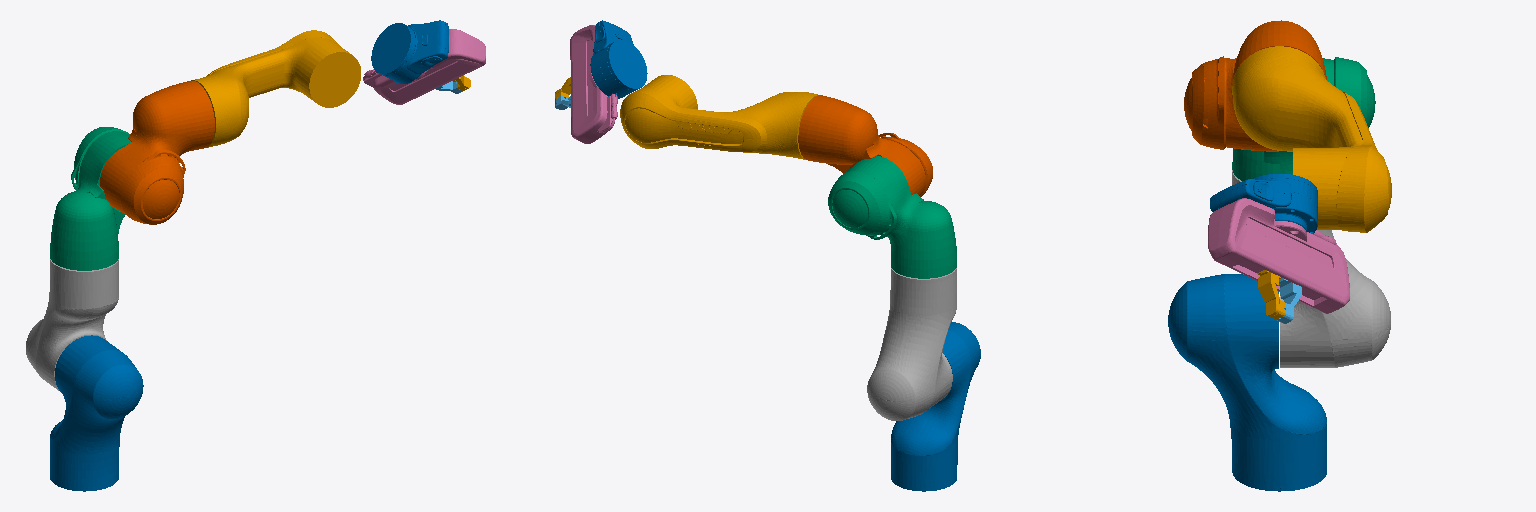
The robot description file, URDF, robot "fr3":
<?xml version="1.0" ?>
<!-- =================================================================================== -->
<!-- |    This document was autogenerated by xacro from C:\Users\hope\Desktop\crisp\.tmp_franka_description\franka_description\robots/fr3/fr3.urdf.xacro | -->
<!-- |    EDITING THIS FILE BY HAND IS NOT RECOMMENDED                                 | -->
<!-- =================================================================================== -->
<robot name="fr3">
  <!-- safety_distance: Minimum safety distance in [m] by which the collision volumes are expanded and which is enforced during robot motions -->
  <!-- robot_type: the franka robot arm type -->
  <!-- joint_limits: description of the joint limits that comes from a YAML file. Example definition: ${xacro.load_yaml('$(find franka_description)/robots/fr3/joint_limits.yaml')} -->
  <!-- kinematics: description of the kinematics that comes from a YAML file. Example definition: ${xacro.load_yaml('$(find franka_description)/robots/fr3/kinematics.yaml')} -->
  <!-- inertials: description of the inertials that comes from a YAML file. Example definition: ${xacro.load_yaml('$(find franka_description)/robots/fr3/inertials.yaml')} -->
  <!-- dynamics: description of the dynamics that comes from a YAML file. Example definition: ${xacro.load_yaml('$(find franka_description)/robots/fr3/dynamics.yaml')} -->
  <link name="base">
      </link>
  <joint name="fr3_base_joint" type="fixed">
    <parent link="base"/>
    <child link="fr3_link0"/>
    <origin rpy="0 0 0" xyz="0 0 0"/>
  </joint>
  <!-- sub-link defining detailed meshes for collision with environment -->
  <link name="fr3_link0">
    <visual name="fr3_link0_visual">
      <geometry>
        <mesh filename="package://franka_description/meshes/robots/fr3/visual/link0.obj"/>
      </geometry>
    </visual>
    <collision name="fr3_link0_collision">
      <geometry>
        <mesh filename="package://franka_description/meshes/robots/fr3/collision/link0.stl"/>
      </geometry>
    </collision>
    <inertial>
      <origin rpy="0 0 0" xyz="-0.0172 0.0004 0.0745"/>
      <mass value="2.3966"/>
      <inertia ixx="0.009" ixy="0.0" ixz="0.002" iyy="0.0115" iyz="0.0" izz="0.0085"/>
    </inertial>
  </link>
  <link name="fr3_link0_accelerometer_top">
      </link>
  <joint name="fr3_link0_accelerometer_top_joint" type="fixed">
    <origin rpy="3.1416 0.0 0.0" xyz="-0.017402 -0.007872 0.04715"/>
    <parent link="fr3_link0"/>
    <child link="fr3_link0_accelerometer_top"/>
  </joint>
  <link name="fr3_link0_accelerometer_bottom">
      </link>
  <joint name="fr3_link0_accelerometer_bottom_joint" type="fixed">
    <origin rpy="0.0 0.0 -1.5708" xyz="-0.019739 0.0015506 0.05075"/>
    <parent link="fr3_link0"/>
    <child link="fr3_link0_accelerometer_bottom"/>
  </joint>
  <!-- sub-link defining detailed meshes for collision with environment -->
  <link name="fr3_link1">
    <visual name="fr3_link1_visual">
      <geometry>
        <mesh filename="package://franka_description/meshes/robots/fr3/visual/link1.obj"/>
      </geometry>
    </visual>
    <collision name="fr3_link1_collision">
      <geometry>
        <mesh filename="package://franka_description/meshes/robots/fr3/collision/link1.stl"/>
      </geometry>
    </collision>
    <inertial>
      <origin rpy="0 0 0" xyz="0.0000004128 -0.0181251324 -0.0386035970"/>
      <mass value="2.9274653454"/>
      <inertia ixx="0.023927316485107913" ixy="1.3317903455714081e-05" ixz="-0.00011404774918616684" iyy="0.0224821613275756" iyz="-0.0019950320628240115" izz="0.006350098258530016"/>
    </inertial>
  </link>
  <link name="fr3_link1_accelerometer_top">
      </link>
  <joint name="fr3_link1_accelerometer_top_joint" type="fixed">
    <origin rpy="-1.5708 0.0 3.1416" xyz="0.017402 -0.093352 -0.00787"/>
    <parent link="fr3_link1"/>
    <child link="fr3_link1_accelerometer_top"/>
  </joint>
  <link name="fr3_link1_accelerometer_bottom">
      </link>
  <joint name="fr3_link1_accelerometer_bottom_joint" type="fixed">
    <origin rpy="-1.5708 1.5708 0.0" xyz="0.01974 -0.08975 0.00155"/>
    <parent link="fr3_link1"/>
    <child link="fr3_link1_accelerometer_bottom"/>
  </joint>
  <joint name="fr3_joint1" type="revolute">
    <origin rpy="0 0 0" xyz="0 0 0.333"/>
    <parent link="fr3_link0"/>
    <child link="fr3_link1"/>
    <axis xyz="0 0 1"/>
    <limit effort="87.0" lower="-2.9007" upper="2.9007" velocity="2.62"/>
    <safety_controller k_position="100.0" k_velocity="40.0" soft_lower_limit="-2.9007" soft_upper_limit="2.9007"/>
    <position_based_velocity_limits deceleration_limit="6.0" velocity_offset="0.652"/>
    <dynamics D="1" K="7000" damping="0.003" friction="0.2" gear_ratio="120.0" motor_inertia="4.206399e-05" mu_coulomb="0" mu_viscous="16"/>
  </joint>
  <!-- sub-link defining detailed meshes for collision with environment -->
  <link name="fr3_link2">
    <visual name="fr3_link2_visual">
      <geometry>
        <mesh filename="package://franka_description/meshes/robots/fr3/visual/link2.obj"/>
      </geometry>
    </visual>
    <collision name="fr3_link2_collision">
      <geometry>
        <mesh filename="package://franka_description/meshes/robots/fr3/collision/link2.stl"/>
      </geometry>
    </collision>
    <inertial>
      <origin rpy="0 0 0" xyz="0.0031828864 -0.0743221644 0.0088146084"/>
      <mass value="2.9355370338"/>
      <inertia ixx="0.041938946257609425" ixy="0.00020257331521090626" ixz="0.004077784227179924" iyy="0.02514514885014724" iyz="-0.0042252158006570156" izz="0.06170214472888839"/>
    </inertial>
  </link>
  <link name="fr3_link2_accelerometer_top">
      </link>
  <joint name="fr3_link2_accelerometer_top_joint" type="fixed">
    <origin rpy="1.5708 0.0 3.1416" xyz="0.017403 -0.11715 0.00787"/>
    <parent link="fr3_link2"/>
    <child link="fr3_link2_accelerometer_top"/>
  </joint>
  <link name="fr3_link2_accelerometer_bottom">
      </link>
  <joint name="fr3_link2_accelerometer_bottom_joint" type="fixed">
    <origin rpy="1.5708 -1.5708 0.0" xyz="0.019737 -0.11875 -0.00155"/>
    <parent link="fr3_link2"/>
    <child link="fr3_link2_accelerometer_bottom"/>
  </joint>
  <joint name="fr3_joint2" type="revolute">
    <origin rpy="-1.570796326794897 0 0" xyz="0 0 0"/>
    <parent link="fr3_link1"/>
    <child link="fr3_link2"/>
    <axis xyz="0 0 1"/>
    <limit effort="87.0" lower="-1.8361" upper="1.8361" velocity="2.62"/>
    <safety_controller k_position="100.0" k_velocity="40.0" soft_lower_limit="-1.8361" soft_upper_limit="1.8361"/>
    <position_based_velocity_limits deceleration_limit="2.585" velocity_offset="0.25"/>
    <dynamics D="1" K="7000" damping="0.003" friction="0.2" gear_ratio="120.0" motor_inertia="4.206399e-05" mu_coulomb="0" mu_viscous="16"/>
  </joint>
  <!-- sub-link defining detailed meshes for collision with environment -->
  <link name="fr3_link3">
    <visual name="fr3_link3_visual">
      <geometry>
        <mesh filename="package://franka_description/meshes/robots/fr3/visual/link3.obj"/>
      </geometry>
    </visual>
    <collision name="fr3_link3_collision">
      <geometry>
        <mesh filename="package://franka_description/meshes/robots/fr3/collision/link3.stl"/>
      </geometry>
    </collision>
    <inertial>
      <origin rpy="0 0 0" xyz="0.0407015686 -0.0048200565 -0.0289730823"/>
      <mass value="2.2449013699"/>
      <inertia ixx="0.02410142547240885" ixy="0.002404694559042109" ixz="-0.002856269270114313" iyy="0.01974053266708178" iyz="-0.002104212683891874" izz="0.019044494482244823"/>
    </inertial>
  </link>
  <link name="fr3_link3_accelerometer_top">
      </link>
  <joint name="fr3_link3_accelerometer_top_joint" type="fixed">
    <origin rpy="-1.5708 0.0 0.0" xyz="0.065099 0.077352 -0.00787"/>
    <parent link="fr3_link3"/>
    <child link="fr3_link3_accelerometer_top"/>
  </joint>
  <link name="fr3_link3_accelerometer_bottom">
      </link>
  <joint name="fr3_link3_accelerometer_bottom_joint" type="fixed">
    <origin rpy="1.5708 1.5708 0.0" xyz="0.062769 0.073756 0.00155"/>
    <parent link="fr3_link3"/>
    <child link="fr3_link3_accelerometer_bottom"/>
  </joint>
  <joint name="fr3_joint3" type="revolute">
    <origin rpy="1.570796326794897 0 0" xyz="0 -0.316 0"/>
    <parent link="fr3_link2"/>
    <child link="fr3_link3"/>
    <axis xyz="0 0 1"/>
    <limit effort="87.0" lower="-2.9007" upper="2.9007" velocity="2.62"/>
    <safety_controller k_position="100.0" k_velocity="40.0" soft_lower_limit="-2.9007" soft_upper_limit="2.9007"/>
    <position_based_velocity_limits deceleration_limit="3.5" velocity_offset="0.2005"/>
    <dynamics D="1" K="7000" damping="0.003" friction="0.2" gear_ratio="120.0" motor_inertia="3.211626e-05" mu_coulomb="0" mu_viscous="16"/>
  </joint>
  <!-- sub-link defining detailed meshes for collision with environment -->
  <link name="fr3_link4">
    <visual name="fr3_link4_visual">
      <geometry>
        <mesh filename="package://franka_description/meshes/robots/fr3/visual/link4.obj"/>
      </geometry>
    </visual>
    <collision name="fr3_link4_collision">
      <geometry>
        <mesh filename="package://franka_description/meshes/robots/fr3/collision/link4.stl"/>
      </geometry>
    </collision>
    <inertial>
      <origin rpy="0 0 0" xyz="-0.0459100965 0.0630492960 -0.0085187868"/>
      <mass value="2.6155955791"/>
      <inertia ixx="0.03452998321913202" ixy="0.01322552265982813" ixz="0.01015142998484113" iyy="0.028881621933049058" iyz="-0.0009762833870704552" izz="0.04125471171146641"/>
    </inertial>
  </link>
  <link name="fr3_link4_accelerometer_top">
      </link>
  <joint name="fr3_link4_accelerometer_top_joint" type="fixed">
    <origin rpy="-1.5708 0.0 -3.1416" xyz="-0.0651 0.046252 -0.00787"/>
    <parent link="fr3_link4"/>
    <child link="fr3_link4_accelerometer_top"/>
  </joint>
  <link name="fr3_link4_accelerometer_bottom">
      </link>
  <joint name="fr3_link4_accelerometer_bottom_joint" type="fixed">
    <origin rpy="-1.5708 1.5708 0.0" xyz="-0.062775 0.049753 0.00155"/>
    <parent link="fr3_link4"/>
    <child link="fr3_link4_accelerometer_bottom"/>
  </joint>
  <joint name="fr3_joint4" type="revolute">
    <origin rpy="1.570796326794897 0 0" xyz="0.0825 0 0"/>
    <parent link="fr3_link3"/>
    <child link="fr3_link4"/>
    <axis xyz="0 0 1"/>
    <limit effort="87.0" lower="-3.077" upper="-0.1169" velocity="2.62"/>
    <safety_controller k_position="100.0" k_velocity="40.0" soft_lower_limit="-3.077" soft_upper_limit="-0.1169"/>
    <position_based_velocity_limits deceleration_limit="4.0" velocity_offset="0.3542"/>
    <dynamics D="1" K="7000" damping="0.003" friction="0.2" gear_ratio="120.0" motor_inertia="3.211626e-05" mu_coulomb="0" mu_viscous="16"/>
  </joint>
  <!-- sub-link defining detailed meshes for collision with environment -->
  <link name="fr3_link5">
    <visual name="fr3_link5_visual">
      <geometry>
        <mesh filename="package://franka_description/meshes/robots/fr3/visual/link5.obj"/>
      </geometry>
    </visual>
    <collision name="fr3_link5_collision">
      <geometry>
        <mesh filename="package://franka_description/meshes/robots/fr3/collision/link5.stl"/>
      </geometry>
    </collision>
    <inertial>
      <origin rpy="0 0 0" xyz="-0.0016039605 0.0292536262 -0.0972965990"/>
      <mass value="2.3271207594"/>
      <inertia ixx="0.051610278463662895" ixy="-0.005715173387783472" ixz="-0.0035673167625872135" iyy="0.04787729713371481" iyz="0.010673985108535986" izz="0.016423625579357254"/>
    </inertial>
  </link>
  <link name="fr3_link5_accelerometer_top">
      </link>
  <joint name="fr3_link5_accelerometer_top_joint" type="fixed">
    <origin rpy="-1.5708 0.0 0.0" xyz="-0.017363 0.085872 -0.00795"/>
    <parent link="fr3_link5"/>
    <child link="fr3_link5_accelerometer_top"/>
  </joint>
  <link name="fr3_link5_accelerometer_bottom">
      </link>
  <joint name="fr3_link5_accelerometer_bottom_joint" type="fixed">
    <origin rpy="1.5708 1.5708 0.0" xyz="-0.019742 0.082275 0.00146"/>
    <parent link="fr3_link5"/>
    <child link="fr3_link5_accelerometer_bottom"/>
  </joint>
  <joint name="fr3_joint5" type="revolute">
    <origin rpy="-1.570796326794897 0 0" xyz="-0.0825 0.384 0"/>
    <parent link="fr3_link4"/>
    <child link="fr3_link5"/>
    <axis xyz="0 0 1"/>
    <limit effort="12.0" lower="-2.8763" upper="2.8763" velocity="5.26"/>
    <safety_controller k_position="100.0" k_velocity="40.0" soft_lower_limit="-2.8763" soft_upper_limit="2.8763"/>
    <position_based_velocity_limits deceleration_limit="17.0" velocity_offset="0.5738"/>
    <dynamics D="1" K="7000" damping="0.003" friction="0.2" gear_ratio="80.0" motor_inertia="3.211626e-05" mu_coulomb="0" mu_viscous="16"/>
  </joint>
  <!-- sub-link defining detailed meshes for collision with environment -->
  <link name="fr3_link6">
    <visual name="fr3_link6_visual">
      <geometry>
        <mesh filename="package://franka_description/meshes/robots/fr3/visual/link6.obj"/>
      </geometry>
    </visual>
    <collision name="fr3_link6_collision">
      <geometry>
        <mesh filename="package://franka_description/meshes/robots/fr3/collision/link6.stl"/>
      </geometry>
    </collision>
    <inertial>
      <origin rpy="0 0 0" xyz="0.0597131221 -0.0410294666 -0.0101692726"/>
      <mass value="1.8170376524"/>
      <inertia ixx="0.005412333594383447" ixy="0.006193456360285834" ixz="0.0014219289306117652" iyy="0.014058329545509979" iyz="-0.0013140753741120031" izz="0.016080817924212554"/>
    </inertial>
  </link>
  <joint name="fr3_joint6" type="revolute">
    <origin rpy="1.570796326794897 0 0" xyz="0 0 0"/>
    <parent link="fr3_link5"/>
    <child link="fr3_link6"/>
    <axis xyz="0 0 1"/>
    <limit effort="12.0" lower="0.4398" upper="4.6216" velocity="4.18"/>
    <safety_controller k_position="100.0" k_velocity="40.0" soft_lower_limit="0.4398" soft_upper_limit="4.6216"/>
    <position_based_velocity_limits deceleration_limit="5.5" velocity_offset="0.4885"/>
    <dynamics D="1" K="7000" damping="0.003" friction="0.2" gear_ratio="80.0" motor_inertia="3.211626e-05" mu_coulomb="0" mu_viscous="16"/>
  </joint>
  <!-- sub-link defining detailed meshes for collision with environment -->
  <link name="fr3_link7">
    <visual name="fr3_link7_visual">
      <geometry>
        <mesh filename="package://franka_description/meshes/robots/fr3/visual/link7.obj"/>
      </geometry>
    </visual>
    <collision name="fr3_link7_collision">
      <geometry>
        <mesh filename="package://franka_description/meshes/robots/fr3/collision/link7.stl"/>
      </geometry>
    </collision>
    <inertial>
      <origin rpy="0 0 0" xyz="0.0045225817 0.0086261921 -0.0161633251"/>
      <mass value="0.6271432862"/>
      <inertia ixx="0.00021092389150104718" ixy="-2.433299114461931e-05" ixz="4.564480393778983e-05" iyy="0.00017718568002411474" iyz="8.744070223226438e-05" izz="5.993190599659971e-05"/>
    </inertial>
  </link>
  <joint name="fr3_joint7" type="revolute">
    <origin rpy="1.570796326794897 0 0" xyz="0.088 0 0"/>
    <parent link="fr3_link6"/>
    <child link="fr3_link7"/>
    <axis xyz="0 0 1"/>
    <limit effort="12.0" lower="-3.0508" upper="3.0508" velocity="5.26"/>
    <safety_controller k_position="100.0" k_velocity="40.0" soft_lower_limit="-3.0508" soft_upper_limit="3.0508"/>
    <position_based_velocity_limits deceleration_limit="17.0" velocity_offset="0.4592"/>
    <dynamics D="1" K="7000" damping="0.003" friction="0.2" gear_ratio="80.0" motor_inertia="3.211626e-05" mu_coulomb="0" mu_viscous="16"/>
  </joint>
  <link name="fr3_link8"/>
  <joint name="fr3_joint8" type="fixed">
    <origin rpy="0 0 0" xyz="0 0 0.107"/>
    <parent link="fr3_link7"/>
    <child link="fr3_link8"/>
  </joint>
  <joint name="fr3_hand_joint" type="fixed">
    <parent link="fr3_link8"/>
    <child link="fr3_hand"/>
    <origin rpy="0 0 -0.7853981633974483" xyz="0 0 0"/>
  </joint>
  <!-- sub-link defining detailed meshes for collision with environment -->
  <link name="fr3_hand">
    <visual name="fr3_hand_visual">
      <geometry>
        <mesh filename="package://franka_description/meshes/robot_ee/franka_hand_white/visual/hand.obj"/>
      </geometry>
    </visual>
    <collision name="fr3_hand_collision">
      <geometry>
        <mesh filename="package://franka_description/meshes/robot_ee/franka_hand_white/collision/hand.stl"/>
      </geometry>
    </collision>
    <inertial>
      <origin rpy="0 0 0" xyz="-0.0000376 0.0119128 0.0207260"/>
      <mass value="0.6544"/>
      <inertia ixx="0.00186" ixy="0.0" ixz="0.0" iyy="0.0003" iyz="-2e-05" izz="0.00174"/>
    </inertial>
  </link>
  <!-- Define the hand_tcp frame -->
  <link name="fr3_hand_tcp"/>
  <joint name="fr3_hand_tcp_joint" type="fixed">
    <origin rpy="0 0 0" xyz="0 0 0.1034"/>
    <parent link="fr3_hand"/>
    <child link="fr3_hand_tcp"/>
  </joint>
  <link name="fr3_leftfinger">
    <visual name="fr3_leftfinger_visual">
      <geometry>
        <mesh filename="package://franka_description/meshes/robot_ee/franka_hand_white/visual/finger.obj"/>
      </geometry>
    </visual>
    <!-- screw mount -->
    <collision>
      <origin rpy="0 0 0" xyz="0 18.5e-3 11e-3"/>
      <geometry>
        <box size="22e-3 15e-3 20e-3"/>
      </geometry>
    </collision>
    <!-- cartriage sledge -->
    <collision>
      <origin rpy="0 0 0" xyz="0 6.8e-3 2.2e-3"/>
      <geometry>
        <box size="22e-3 8.8e-3 3.8e-3"/>
      </geometry>
    </collision>
    <!-- diagonal finger -->
    <collision>
      <origin rpy="0.5235987755982988 0 0" xyz="0 15.9e-3 28.35e-3"/>
      <geometry>
        <box size="17.5e-3 7e-3 23.5e-3"/>
      </geometry>
    </collision>
    <!-- rubber tip with which to grasp -->
    <collision>
      <origin rpy="0 0 0" xyz="0 7.58e-3 45.25e-3"/>
      <geometry>
        <box size="17.5e-3 15.2e-3 18.5e-3"/>
      </geometry>
    </collision>
    <inertial>
      <origin rpy="0 0 0" xyz="0 0.0152850 0.0219675"/>
      <mass value="0.0291"/>
      <inertia ixx="8.49e-06" ixy="0.0" ixz="0.0" iyy="8.53e-06" iyz="-1.06e-06" izz="1.77e-06"/>
    </inertial>
  </link>
  <link name="fr3_rightfinger">
    <visual name="fr3_rightfinger_visual">
      <origin rpy="0 0 0" xyz="0 0 0"/>
      <geometry>
        <mesh filename="package://franka_description/meshes/robot_ee/franka_hand_white/visual/finger.obj"/>
      </geometry>
    </visual>
    <!-- screw mount -->
    <collision>
      <origin rpy="0 0 0" xyz="0 18.5e-3 11e-3"/>
      <geometry>
        <box size="22e-3 15e-3 20e-3"/>
      </geometry>
    </collision>
    <!-- cartriage sledge -->
    <collision>
      <origin rpy="0 0 0" xyz="0 6.8e-3 2.2e-3"/>
      <geometry>
        <box size="22e-3 8.8e-3 3.8e-3"/>
      </geometry>
    </collision>
    <!-- diagonal finger -->
    <collision>
      <origin rpy="-0.5235987755982988 0 3.141592653589793" xyz="0 15.9e-3 28.35e-3"/>
      <geometry>
        <box size="17.5e-3 7e-3 23.5e-3"/>
      </geometry>
    </collision>
    <!-- rubber tip with which to grasp -->
    <collision>
      <origin rpy="0 0 0" xyz="0 7.58e-3 45.25e-3"/>
      <geometry>
        <box size="17.5e-3 15.2e-3 18.5e-3"/>
      </geometry>
    </collision>
    <inertial>
      <origin rpy="0 0 0" xyz="0 0.0152850 0.0219675"/>
      <mass value="0.0291"/>
      <inertia ixx="8.49e-06" ixy="0.0" ixz="0.0" iyy="8.53e-06" iyz="-1.06e-06" izz="1.77e-06"/>
    </inertial>
  </link>
  <joint name="fr3_finger_joint1" type="prismatic">
    <parent link="fr3_hand"/>
    <child link="fr3_leftfinger"/>
    <origin rpy="0 0 0" xyz="0 0 0.0584"/>
    <axis xyz="0 1 0"/>
    <limit effort="100" lower="0.0" upper="0.04" velocity="0.2"/>
    <dynamics damping="0.3"/>
  </joint>
  <joint name="fr3_finger_joint2" type="prismatic">
    <parent link="fr3_hand"/>
    <child link="fr3_rightfinger"/>
    <origin rpy="0 0 3.141592653589793" xyz="0 0 0.0584"/>
    <axis xyz="0 1 0"/>
    <limit effort="100" lower="0.0" upper="0.04" velocity="0.2"/>
    <mimic joint="fr3_finger_joint1"/>
    <dynamics damping="0.3"/>
  </joint>
</robot>

--- What the picture shows (computed from the rendered views, not written in the file) ---
Views: 3 orthographic renders of the robot side by side, from view 1: azimuth 30°, elevation 25°; view 2: azimuth 150°, elevation 25°; view 3: azimuth 270°, elevation 25°.
Robot: fr3 — 26 links, 25 joints (7 revolute, 2 prismatic, 16 fixed); root link base; default pose: joints at zero except 2 at the middle of their limits (fr3_joint4 = -1.6, fr3_joint6 = 2.53).
Visible links, largest first — view 1: fr3_link1, fr3_link4, fr3_link5, fr3_link3, fr3_link2, fr3_link7, fr3_hand; view 2: fr3_link5, fr3_link2, fr3_link3, fr3_link1, fr3_link4, fr3_hand, fr3_link7; view 3: fr3_link1, fr3_link5, fr3_hand, fr3_link2, fr3_link4, fr3_link7, fr3_link3, fr3_leftfinger, fr3_rightfinger.
Boxes of the visible links, box(x1,y1,x2,y2) form: fr3_link1: box(50, 335, 143, 491); fr3_link4: box(100, 81, 214, 224); fr3_link5: box(191, 30, 360, 147); fr3_link3: box(50, 127, 130, 270); fr3_link2: box(26, 259, 118, 390); fr3_link7: box(371, 20, 448, 83); fr3_hand: box(363, 29, 485, 104); fr3_link5: box(620, 75, 817, 159); fr3_link2: box(867, 268, 956, 420); fr3_link3: box(828, 156, 956, 278); fr3_link1: box(891, 322, 980, 491); fr3_link4: box(798, 95, 932, 196); fr3_hand: box(570, 25, 617, 143); fr3_link7: box(590, 20, 647, 98); fr3_link1: box(1168, 274, 1326, 491); fr3_link5: box(1232, 46, 1391, 232); fr3_hand: box(1208, 198, 1349, 313); fr3_link2: box(1232, 170, 1390, 367); fr3_link4: box(1184, 20, 1326, 151); fr3_link7: box(1210, 174, 1317, 233); fr3_link3: box(1232, 57, 1375, 180); fr3_leftfinger: box(1257, 270, 1284, 319); fr3_rightfinger: box(1277, 278, 1301, 323).
Bounding box of the posed robot: 0.7604 × 0.2593 × 0.6678 m (x, y, z).
9 mesh visuals loaded from 10 distinct referenced files (8 OBJ); not drawn: 2 (reference not matched to a file when rendering).
